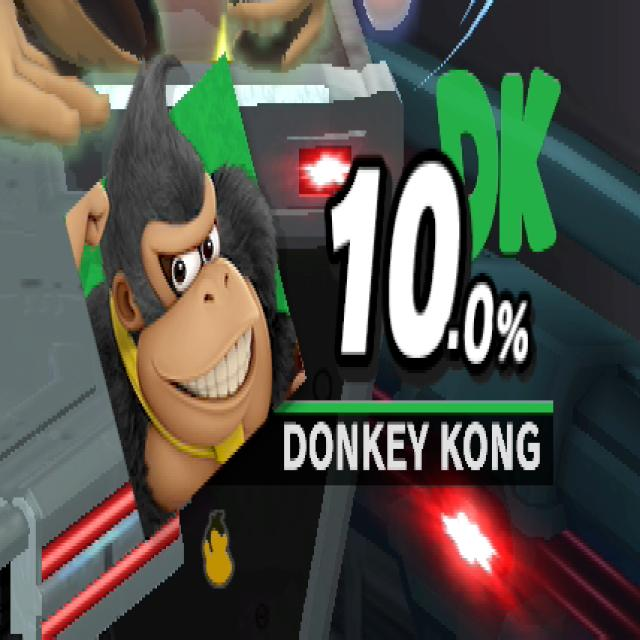dk: (95, 70, 300, 520)
